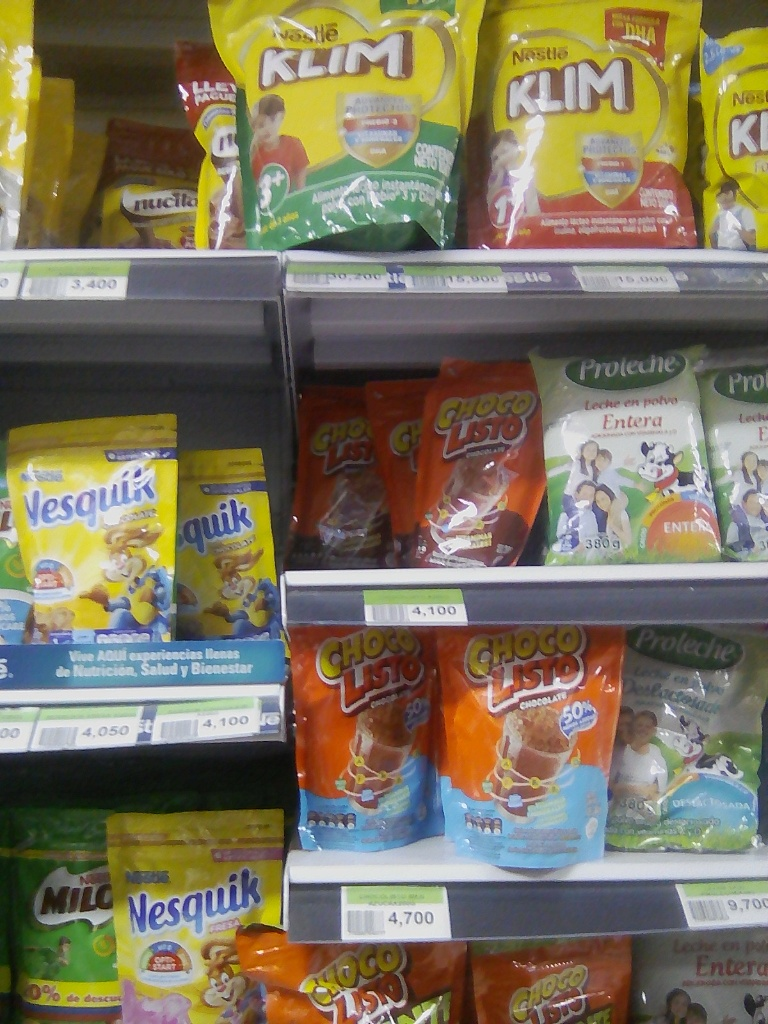COL0170104DYP20000: (436, 623, 623, 873)
COL0170203DYP25000: (6, 807, 124, 1022)
COL0170303DYP20000: (6, 411, 178, 643)
COL0170305DYP20000: (103, 811, 279, 1024)
